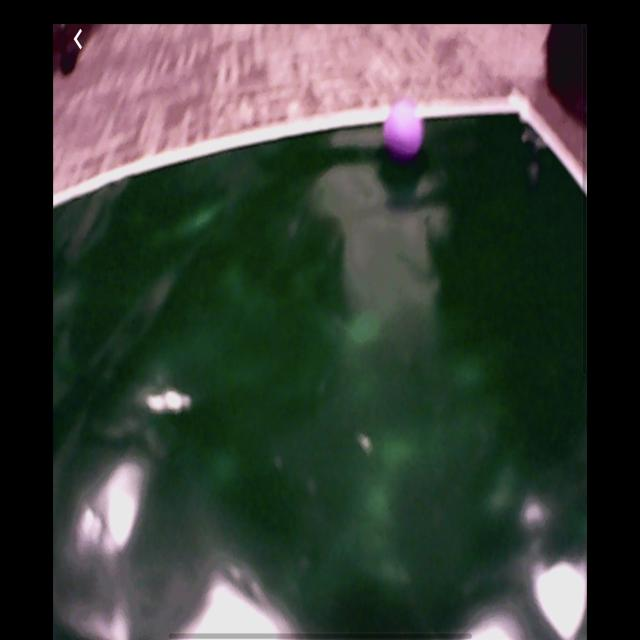ball: (383, 100, 427, 162)
